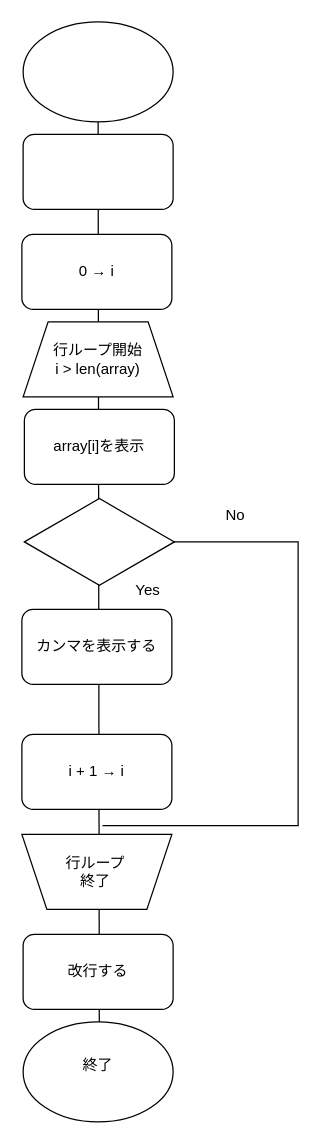
Image size: 320x1144. Some labels were removed from this diagram. The centre of each missing label's shape, as x and y in pixels:
"i ≠ len(array[5])" goes at pixel 98 541.
"配列arrayを宣言し、初期化" goes at pixel 97 171.
"開始" goes at pixel 97 71.
